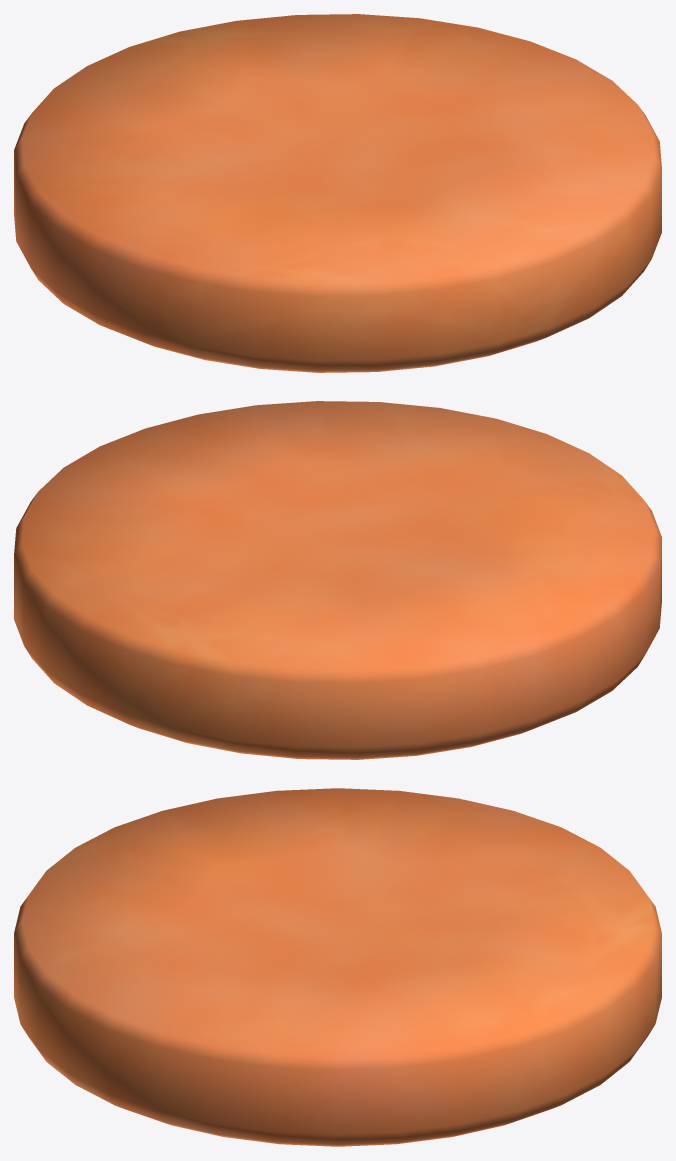
The model's file is bottomBun.glb.
The picture shows the model from 3 angles, top to bottom: view 1: azimuth 30°, elevation 25°; view 2: azimuth 150°, elevation 25°; view 3: azimuth 270°, elevation 25°; orthographic projection.
Parts seen in each view (by area): view 1: Bottombun_low.001; view 2: Bottombun_low.001; view 3: Bottombun_low.001.
Boxes of the visible parts, x1=… form: Bottombun_low.001: x1=14, y1=14, x2=661, y2=372; Bottombun_low.001: x1=14, y1=401, x2=661, y2=759; Bottombun_low.001: x1=14, y1=788, x2=661, y2=1146.
Bounding box in the file's own units: 0.219 × 0.0382 × 0.219.
1 material, 1 textured.
